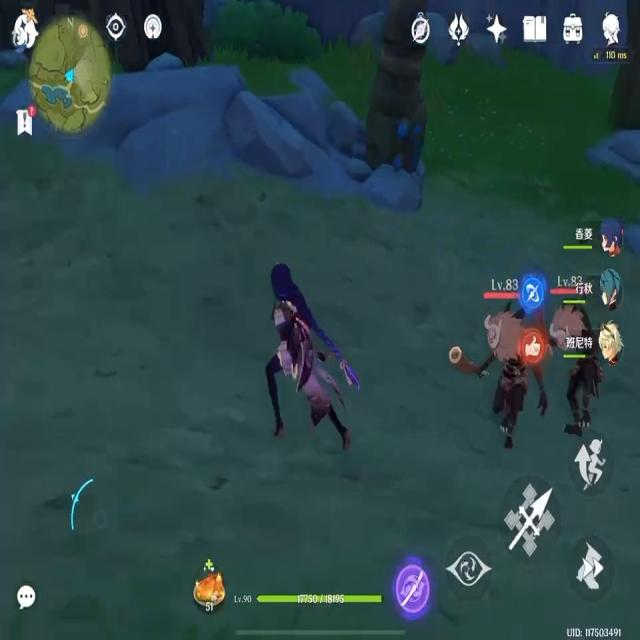genshin-hilichurls: (457, 286, 521, 451)
